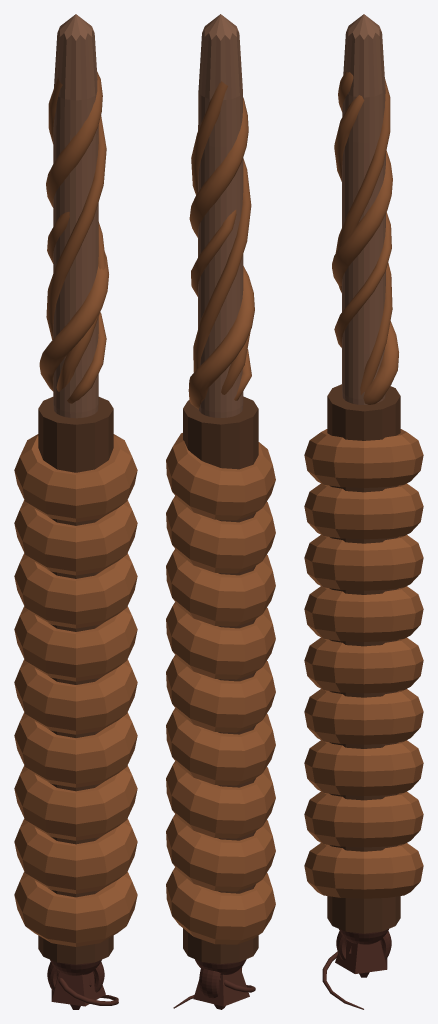
The model's file is Wand 478.glb.
3 views of the same model, side by side, from view 1: azimuth 90°, elevation 25°; view 2: azimuth 150°, elevation 25°; view 3: azimuth 270°, elevation 25° (orthographic). The views are drawn at different scales.
Parts seen in each view (by area): view 1: GeneratedWand, Pommel_9, Pommel_4, Pommel_2, Pommel_10; view 2: GeneratedWand, Pommel_9, Pommel_2, Pommel_4, Pommel_10; view 3: GeneratedWand, Pommel_9, Pommel_4, Pommel_2, Pommel_10.
Part boxes in pixels (<box>): GeneratedWand: <box>14,14,137,964</box>; Pommel_9: <box>51,971,105,1006</box>; Pommel_4: <box>50,959,101,975</box>; Pommel_2: <box>47,962,104,992</box>; Pommel_10: <box>57,971,118,1005</box>; GeneratedWand: <box>166,14,275,964</box>; Pommel_9: <box>193,968,249,1006</box>; Pommel_2: <box>199,967,242,998</box>; Pommel_4: <box>195,959,246,974</box>; Pommel_10: <box>173,978,255,1008</box>; GeneratedWand: <box>304,14,423,933</box>; Pommel_9: <box>335,940,387,973</box>; Pommel_4: <box>339,929,388,944</box>; Pommel_2: <box>336,931,391,960</box>; Pommel_10: <box>322,951,363,1009</box>.
Bounding box in the file's own units: 0.0508 × 0.5233 × 0.0581.
